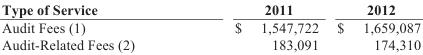table: (1, 1, 420, 52)
table column: (1, 1, 183, 52), (183, 1, 327, 52), (327, 1, 420, 52)
table column header: (1, 1, 420, 18)
table row: (1, 1, 420, 18), (1, 18, 420, 35), (1, 35, 420, 52)
